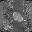people: (12, 11, 24, 22)
